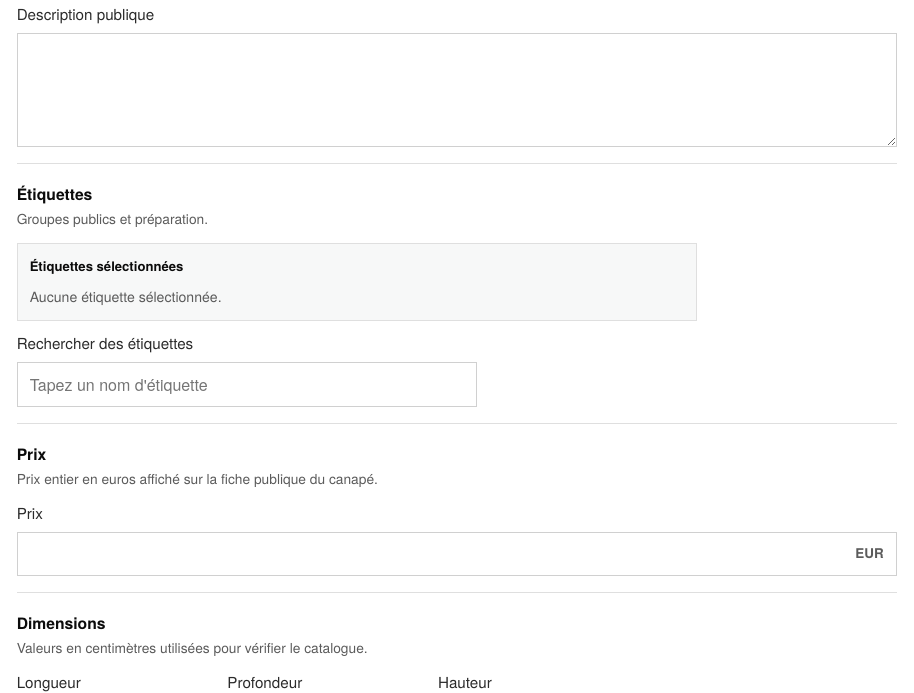
Test: Admin catalog pages › searches sofa tags, pins a selected tag, and removes it
(page scrolled)
Type "r" into the search field labelled "Rechercher des étiquettes" at (247, 384), box [17, 362, 477, 407]
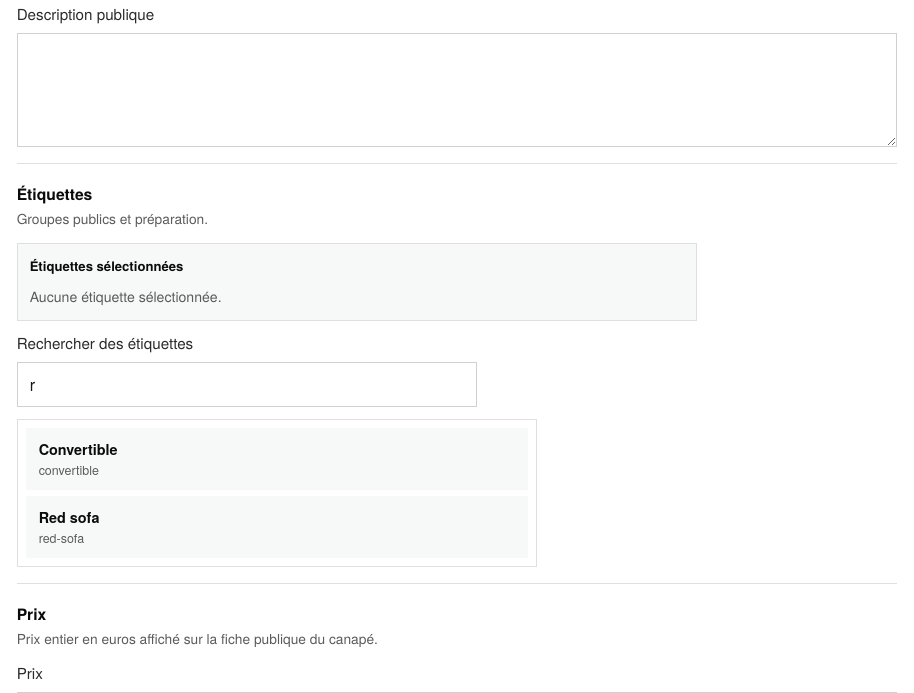
Expected: the option with aria-label "Ajouter l'étiquette Red sofa" is shown
Click the option with aria-label "Ajouter l'étiquette Red sofa" at (69, 517), box [26, 496, 528, 558]
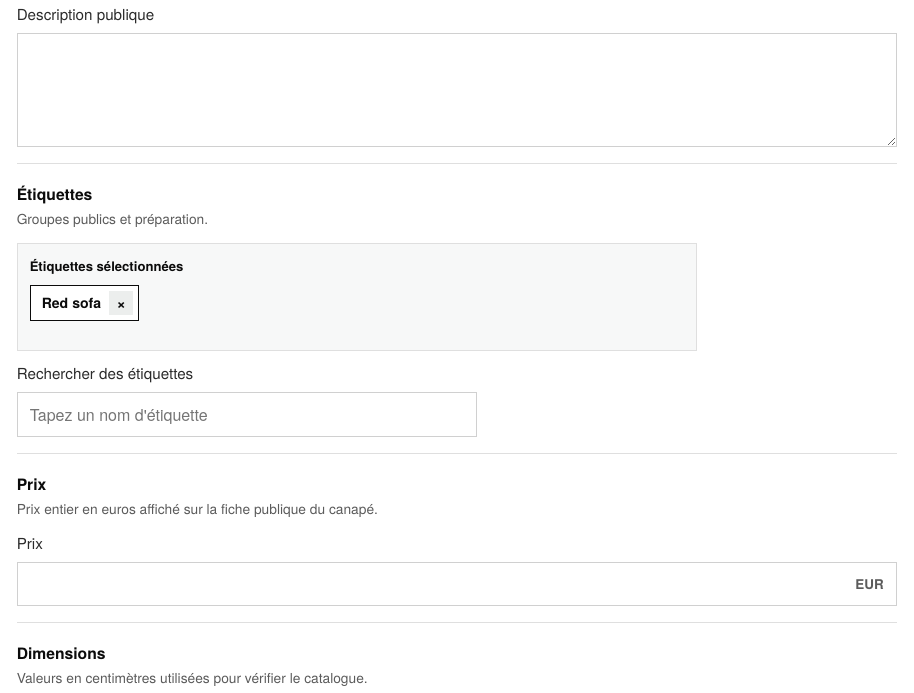
Expected: the text "Étiquettes sélectionnées" is shown, [30, 257, 183, 276]
Expected: the text "Red sofa" is shown, [42, 293, 101, 313]
Expected: the search field labelled "Rechercher des étiquettes" is empty, [17, 392, 477, 437]
Click the button named "Retirer l'étiquette Red sofa" at (121, 303), box [109, 291, 133, 315]
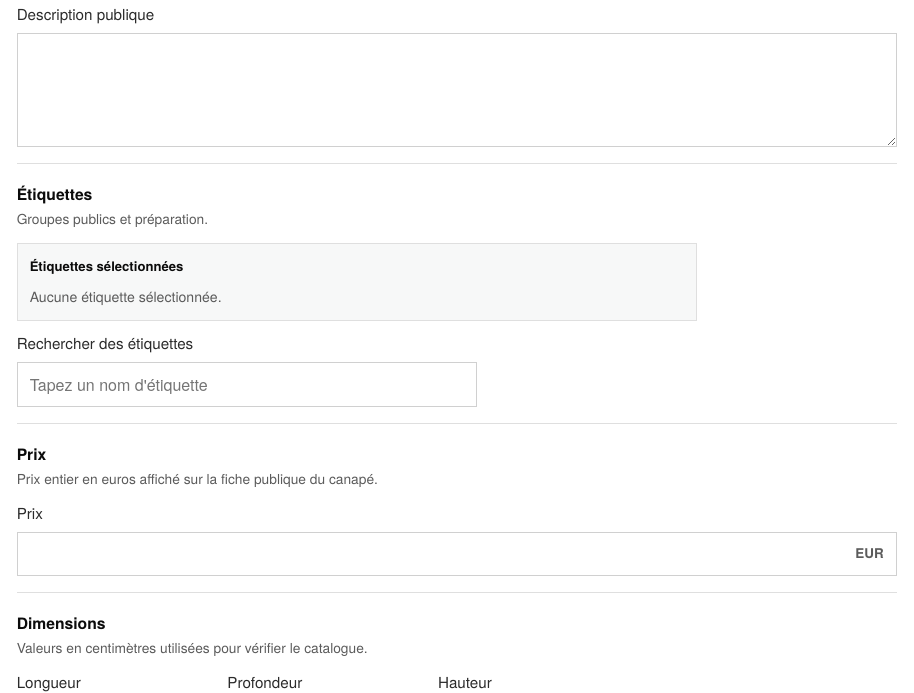
Expected: the text "Red sofa" is gone
Expected: the text "Aucune étiquette sélectionnée." is shown, [30, 286, 222, 306]
